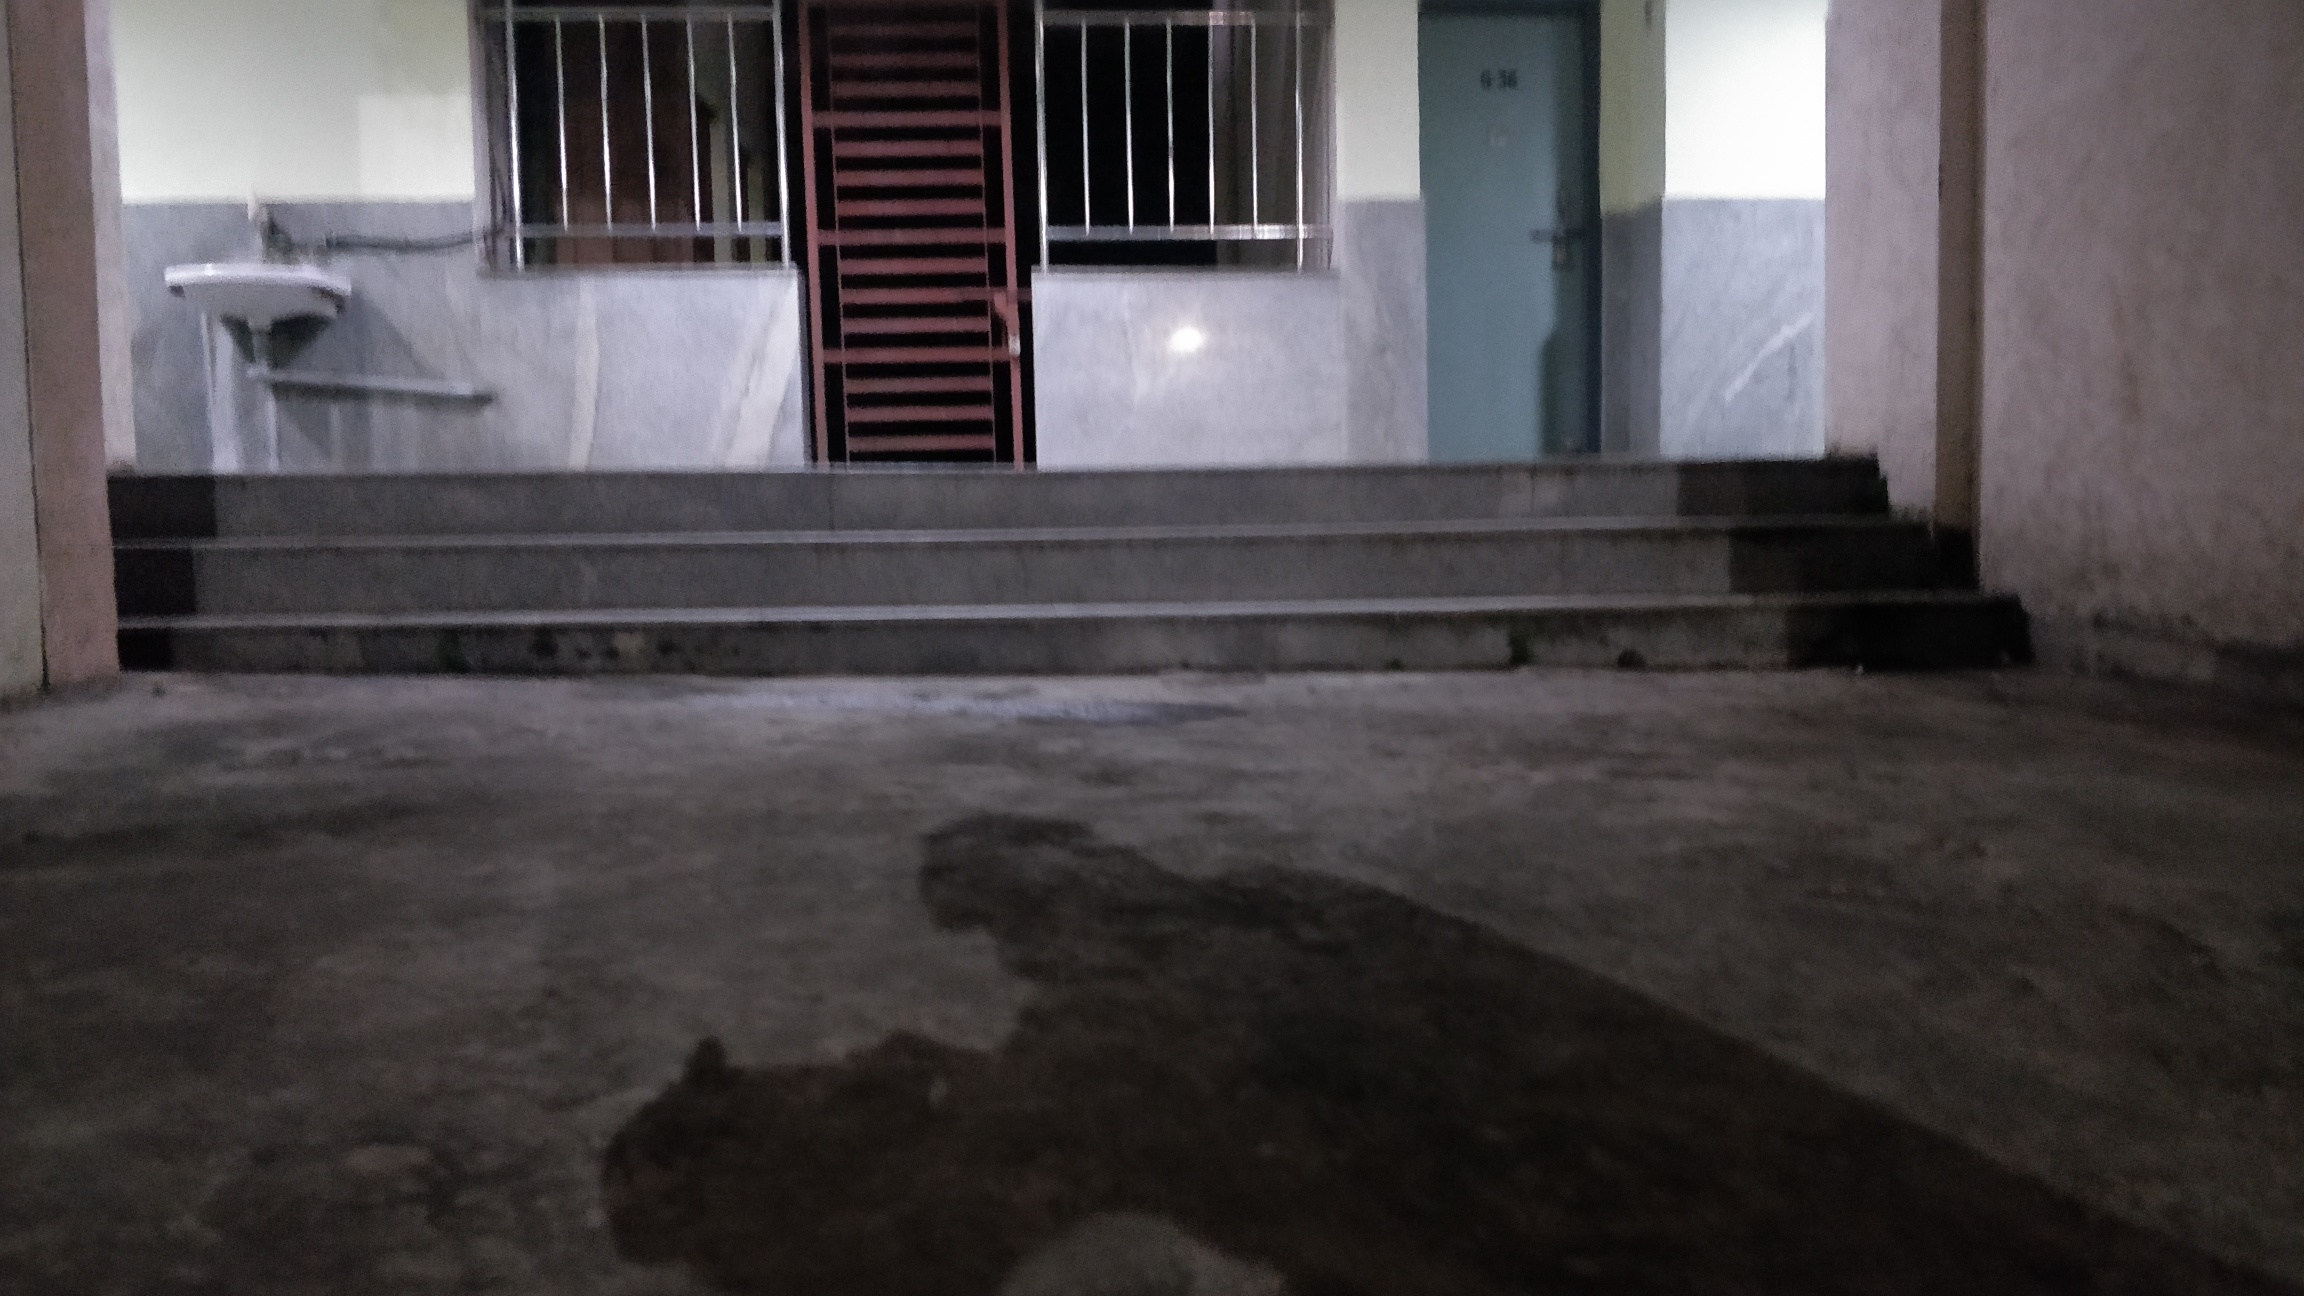stairs_up: (122, 464, 2022, 677)
